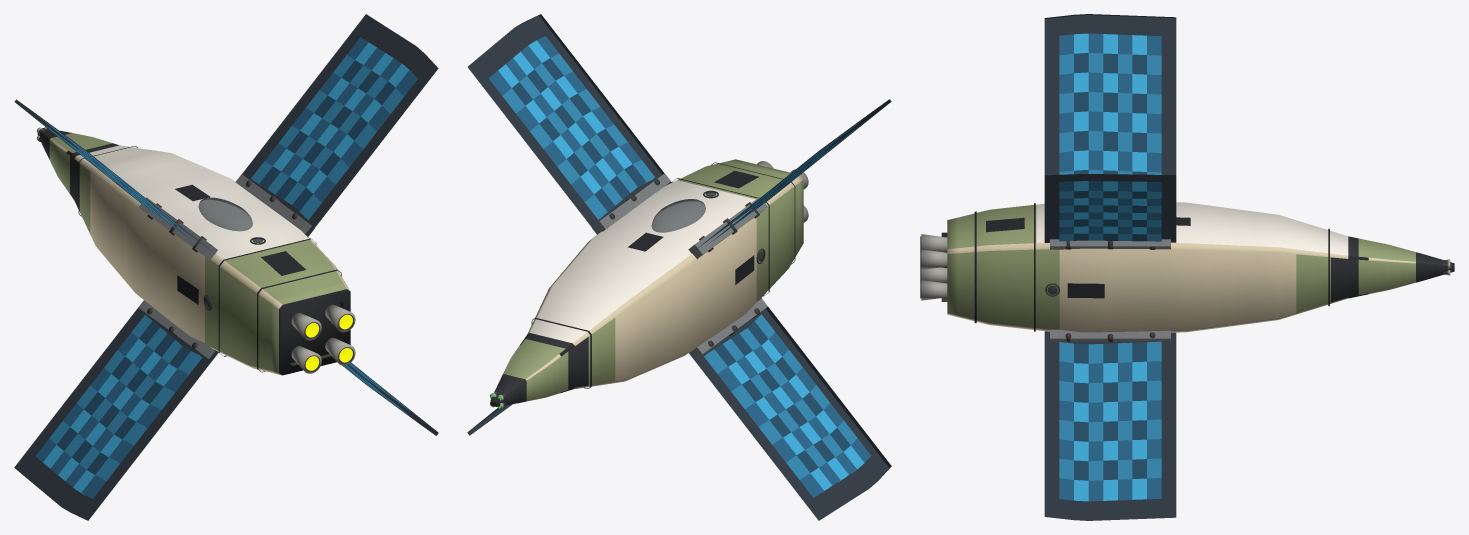
Rendered from Ship_Crosspanel_20.glb.
3 views of the same model, side by side, from view 1: azimuth 30°, elevation 25°; view 2: azimuth 150°, elevation 25°; view 3: azimuth 270°, elevation 25° (orthographic). The views are drawn at different scales.
Parts seen in each view (by area): view 1: Fuselage_SquareBody, SolarPanelWing_LowerLeftRidge_RectangularPhotovoltaicGrid, SolarPanelWing_TopRightRidge_RectangularPhotovoltaicGrid, Nose_SquareTaperedForwardSection, SolarPanelWing_TopLeftRidge_RectangularPhotovoltaicGrid, Canopy_DorsalLowSquareBubble, SolarPanelWing_TopLeftRidge_RootHingeClamp, SolarPanelWing_TopRightRidge_RootHingeClamp, SolarPanelWing_LowerRightRidge_RectangularPhotovoltaicGrid, SolarPanelWing_LowerLeftRidge_RootHingeClamp, EngineEmitter, HullAccessPanel_TopAft; view 2: Fuselage_SquareBody, SolarPanelWing_LowerLeftRidge_RectangularPhotovoltaicGrid, SolarPanelWing_TopRightRidge_RectangularPhotovoltaicGrid, Nose_SquareTaperedForwardSection, SolarPanelWing_TopLeftRidge_RectangularPhotovoltaicGrid, Canopy_DorsalLowSquareBubble, SolarPanelWing_TopLeftRidge_RootHingeClamp, SolarPanelWing_TopRightRidge_RootHingeClamp, SolarPanelWing_LowerLeftRidge_RootHingeClamp; view 3: Fuselage_SquareBody, SolarPanelWing_LowerRightRidge_RectangularPhotovoltaicGrid, SolarPanelWing_TopLeftRidge_RectangularPhotovoltaicGrid, SolarPanelWing_TopRightRidge_RectangularPhotovoltaicGrid, Nose_SquareTaperedForwardSection, SolarPanelWing_LowerRightRidge_RootHingeClamp, SolarPanelWing_TopRightRidge_RootHingeClamp.
Part boxes in pixels (box(x1,y1,x2,y2)): Fuselage_SquareBody: box(74, 145, 350, 375); SolarPanelWing_LowerLeftRidge_RectangularPhotovoltaicGrid: box(14, 307, 218, 520); SolarPanelWing_TopRightRidge_RectangularPhotovoltaicGrid: box(242, 14, 438, 236); Nose_SquareTaperedForwardSection: box(37, 128, 118, 199); SolarPanelWing_TopLeftRidge_RectangularPhotovoltaicGrid: box(14, 99, 214, 253); Canopy_DorsalLowSquareBubble: box(198, 197, 252, 231); SolarPanelWing_TopLeftRidge_RootHingeClamp: box(138, 197, 217, 260); SolarPanelWing_TopRightRidge_RootHingeClamp: box(235, 174, 314, 235); SolarPanelWing_LowerRightRidge_RectangularPhotovoltaicGrid: box(342, 362, 438, 435); SolarPanelWing_LowerLeftRidge_RootHingeClamp: box(138, 300, 214, 358); EngineEmitter: box(305, 314, 352, 370); HullAccessPanel_TopAft: box(261, 251, 305, 275); Fuselage_SquareBody: box(527, 159, 803, 389); SolarPanelWing_LowerLeftRidge_RectangularPhotovoltaicGrid: box(689, 298, 891, 520); SolarPanelWing_TopRightRidge_RectangularPhotovoltaicGrid: box(467, 14, 671, 234); Nose_SquareTaperedForwardSection: box(490, 333, 574, 406); SolarPanelWing_TopLeftRidge_RectangularPhotovoltaicGrid: box(691, 99, 891, 253); Canopy_DorsalLowSquareBubble: box(651, 199, 705, 232); SolarPanelWing_TopLeftRidge_RootHingeClamp: box(688, 197, 767, 258); SolarPanelWing_TopRightRidge_RootHingeClamp: box(592, 173, 670, 234); SolarPanelWing_LowerLeftRidge_RootHingeClamp: box(692, 298, 767, 358); Fuselage_SquareBody: box(947, 202, 1348, 332); SolarPanelWing_LowerRightRidge_RectangularPhotovoltaicGrid: box(1044, 331, 1176, 520); SolarPanelWing_TopLeftRidge_RectangularPhotovoltaicGrid: box(1044, 14, 1176, 175); SolarPanelWing_TopRightRidge_RectangularPhotovoltaicGrid: box(1044, 174, 1176, 242); Nose_SquareTaperedForwardSection: box(1348, 236, 1454, 298); SolarPanelWing_LowerRightRidge_RootHingeClamp: box(1050, 329, 1170, 341); SolarPanelWing_TopRightRidge_RootHingeClamp: box(1050, 239, 1170, 249).
Bounding box in the file's own units: 5.5 × 5.5 × 7.67.
